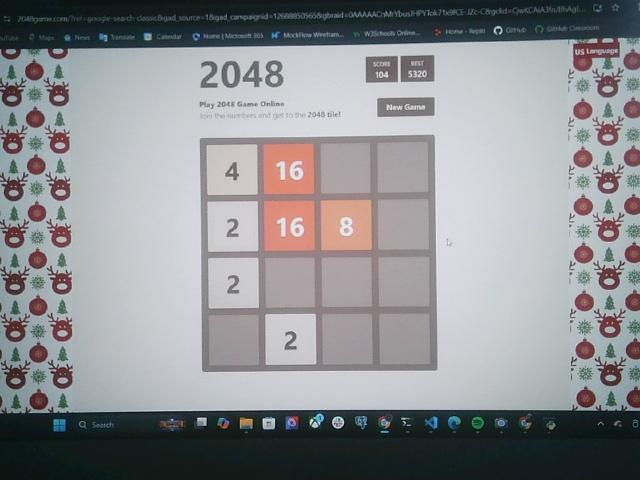best_score_box: (401, 56, 435, 83)
board: (202, 136, 438, 372)
button: (378, 97, 435, 117)
score_box: (365, 56, 398, 83)
tile: (262, 143, 315, 196), (206, 143, 258, 196), (321, 199, 373, 252), (265, 313, 317, 366), (208, 258, 261, 309), (264, 201, 315, 253), (208, 203, 259, 253)
